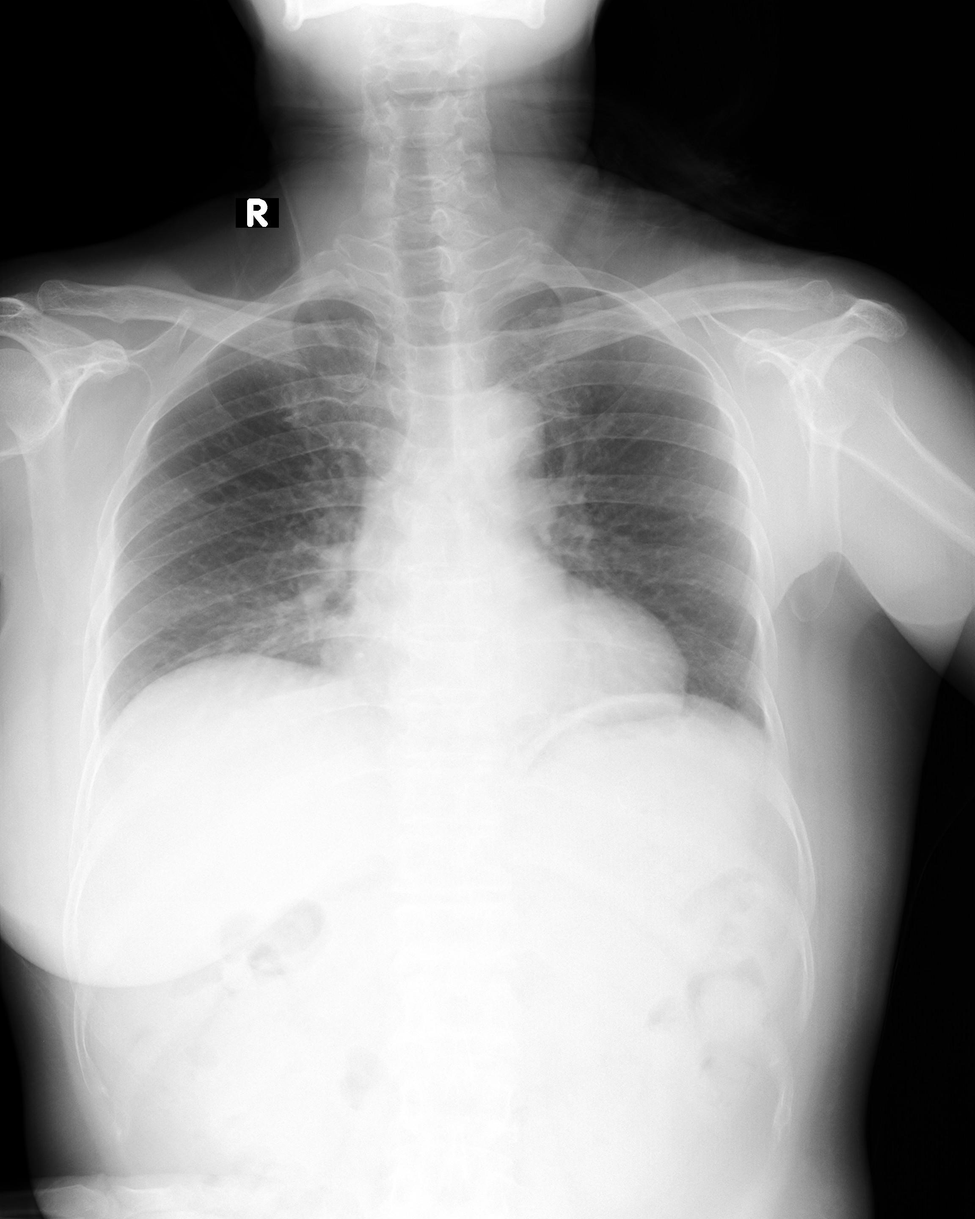Aortic enlargement: (451, 385, 550, 499)
Cardiomegaly: (313, 599, 689, 724)
